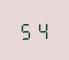five: (19, 20, 33, 40)
four: (34, 20, 48, 39)
